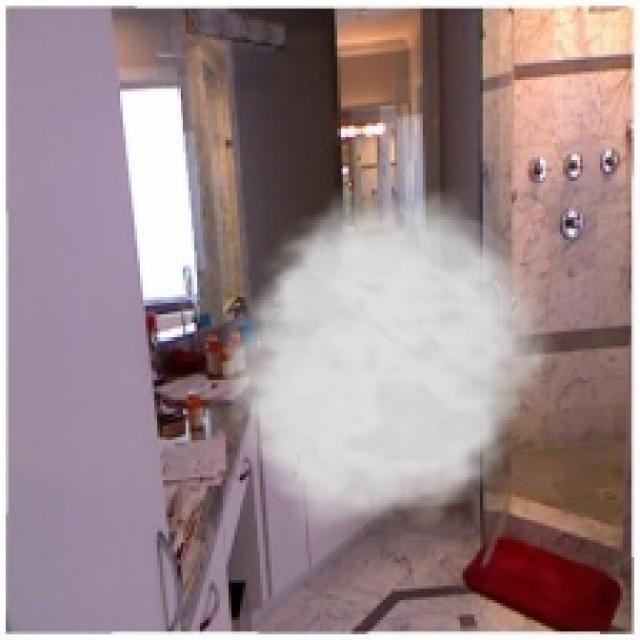Smoke: (211, 185, 563, 540)
